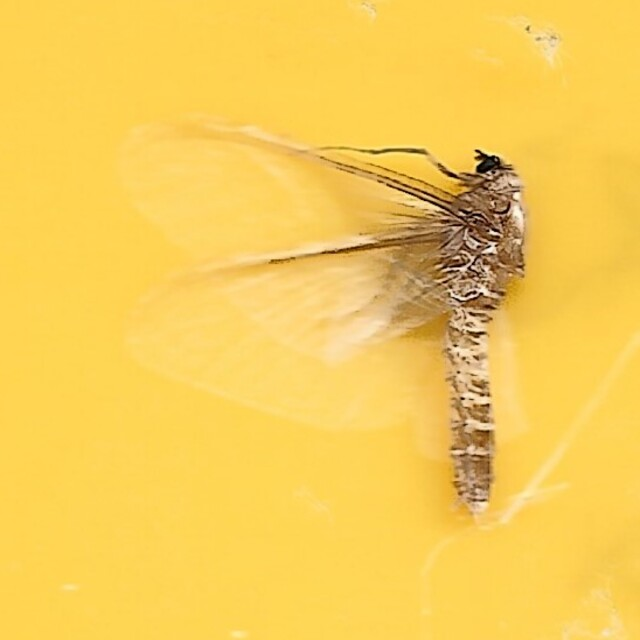Ephemeroptera: (117, 114, 523, 526)
